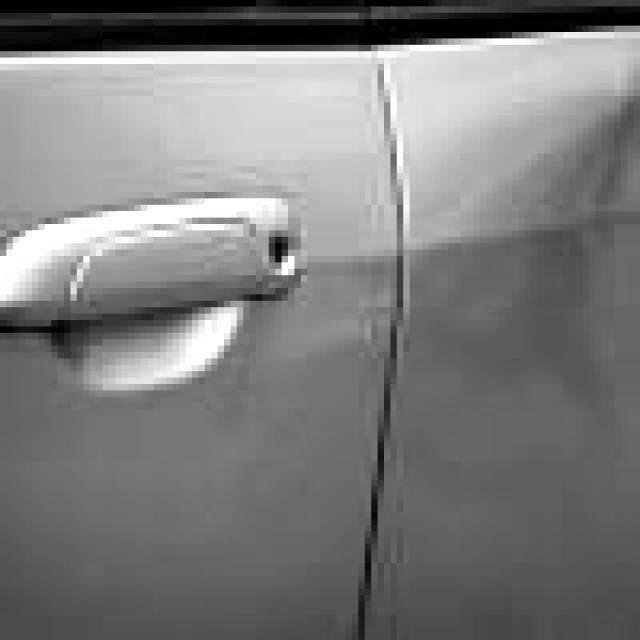doorouter-dent: (206, 46, 635, 635)
